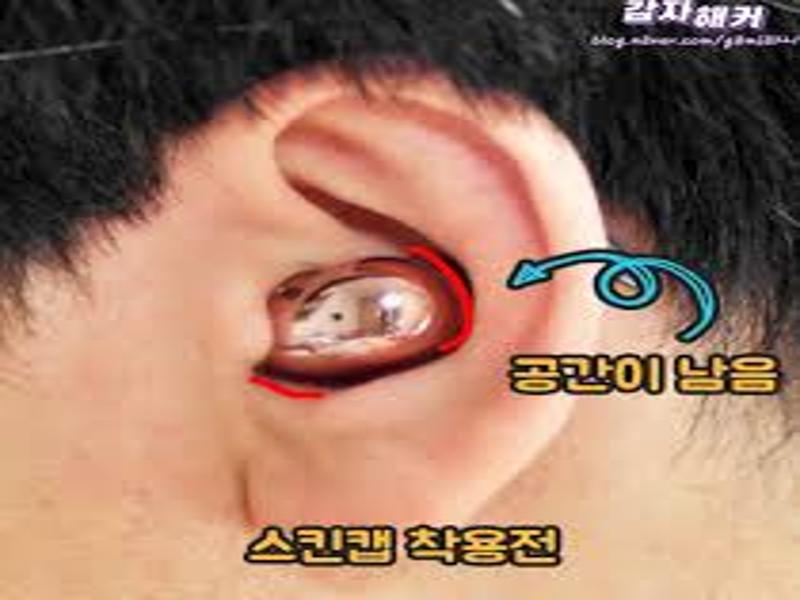headphone: (263, 253, 473, 405)
